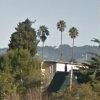Tree: (8, 14, 46, 92)
